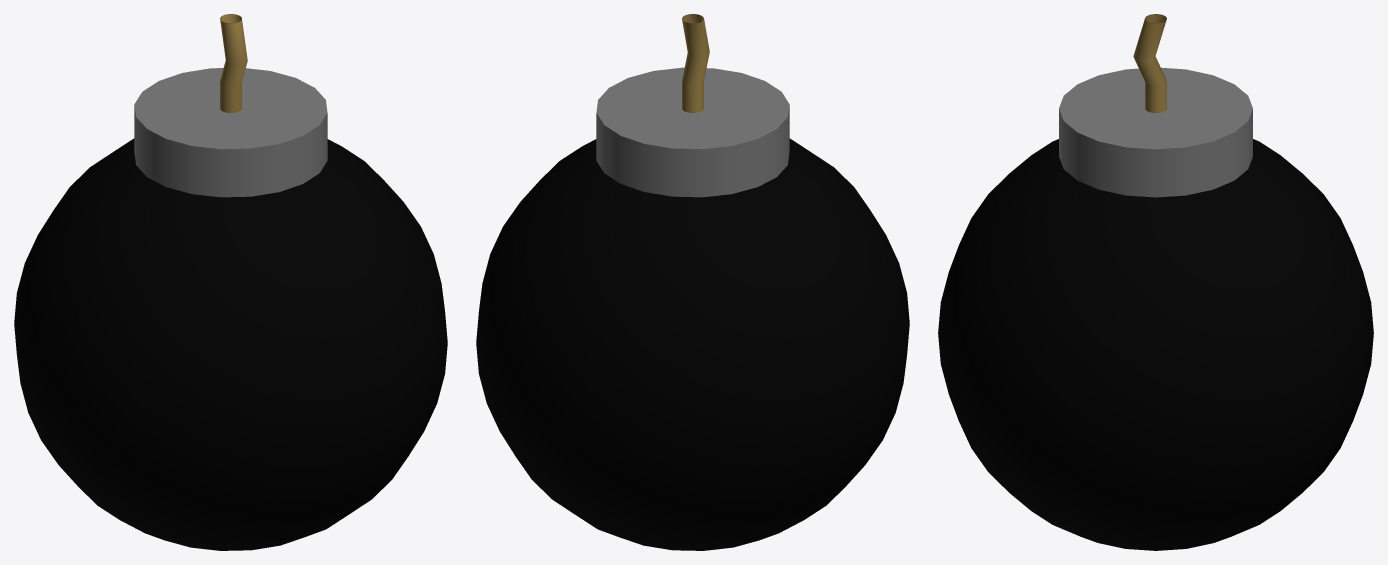
Rendered from Weapon_BallBoom.fbx.
3 views of the same model, side by side, from view 1: azimuth 30°, elevation 25°; view 2: azimuth 150°, elevation 25°; view 3: azimuth 270°, elevation 25° (orthographic).
Visible parts, largest first — view 1: pSphere1, pCylinder1, pCylinder2; view 2: pSphere1, pCylinder1, pCylinder2; view 3: pSphere1, pCylinder1, pCylinder2.
Boxes of the visible parts, x1=… form: pSphere1: x1=14, y1=138, x2=447, y2=550; pCylinder1: x1=134, y1=68, x2=327, y2=197; pCylinder2: x1=220, y1=14, x2=247, y2=112; pSphere1: x1=476, y1=138, x2=909, y2=550; pCylinder1: x1=596, y1=67, x2=789, y2=197; pCylinder2: x1=682, y1=14, x2=709, y2=112; pSphere1: x1=938, y1=139, x2=1373, y2=550; pCylinder1: x1=1059, y1=67, x2=1252, y2=197; pCylinder2: x1=1133, y1=14, x2=1166, y2=112.
Bounding box in the file's own units: 2 × 2.59 × 2.
1 material, 1 textured.
